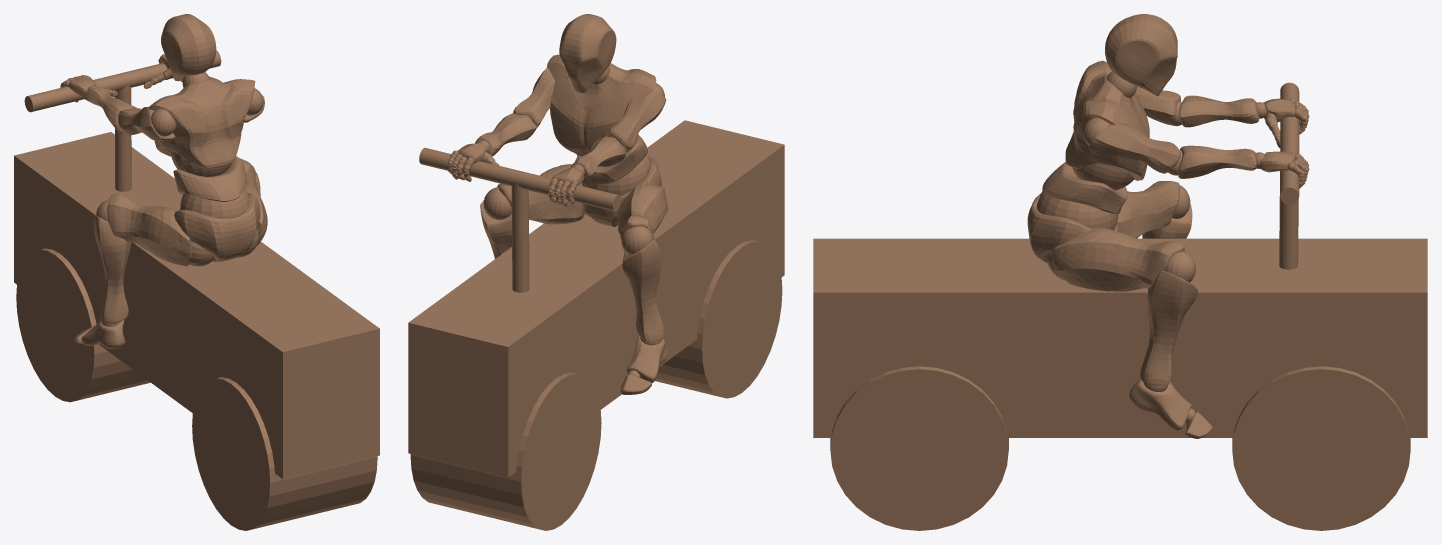
The model's file is two-wheel-motorcycle.glb.
The picture shows the model from 3 angles, left to right: view 1: azimuth 30°, elevation 25°; view 2: azimuth 150°, elevation 25°; view 3: azimuth 270°, elevation 25°; orthographic projection. The views are drawn at different scales.
Parts seen in each view (by area): view 1: xier120.two-wheel-motorcycle.mesh.002, xier120.two-wheel-motorcycle.mesh.000, xier120.two-wheel-motorcycle.mesh.001, xier120.two-wheel-motorcycle.mesh.003, xier120.two-wheel-motorcycle.mesh.004; view 2: xier120.two-wheel-motorcycle.mesh.002, xier120.two-wheel-motorcycle.mesh.000, xier120.two-wheel-motorcycle.mesh.001, xier120.two-wheel-motorcycle.mesh.003, xier120.two-wheel-motorcycle.mesh.004; view 3: xier120.two-wheel-motorcycle.mesh.002, xier120.two-wheel-motorcycle.mesh.000, xier120.two-wheel-motorcycle.mesh.001, xier120.two-wheel-motorcycle.mesh.003, xier120.two-wheel-motorcycle.mesh.004.
Boxes of the visible parts, x1,y1,x2,y2 form: xier120.two-wheel-motorcycle.mesh.002: [14, 132, 379, 530]; xier120.two-wheel-motorcycle.mesh.000: [60, 14, 267, 348]; xier120.two-wheel-motorcycle.mesh.001: [60, 54, 263, 326]; xier120.two-wheel-motorcycle.mesh.003: [24, 50, 221, 112]; xier120.two-wheel-motorcycle.mesh.004: [114, 85, 131, 191]; xier120.two-wheel-motorcycle.mesh.002: [408, 120, 784, 530]; xier120.two-wheel-motorcycle.mesh.000: [447, 14, 668, 394]; xier120.two-wheel-motorcycle.mesh.001: [448, 65, 664, 377]; xier120.two-wheel-motorcycle.mesh.003: [419, 147, 621, 211]; xier120.two-wheel-motorcycle.mesh.004: [511, 182, 529, 292]; xier120.two-wheel-motorcycle.mesh.002: [813, 238, 1427, 530]; xier120.two-wheel-motorcycle.mesh.000: [1027, 14, 1308, 438]; xier120.two-wheel-motorcycle.mesh.001: [1036, 71, 1309, 422]; xier120.two-wheel-motorcycle.mesh.003: [1280, 82, 1299, 204]; xier120.two-wheel-motorcycle.mesh.004: [1279, 142, 1299, 269].
Bounding box in the file's own units: 0.8194 × 1.76 × 2.03.
